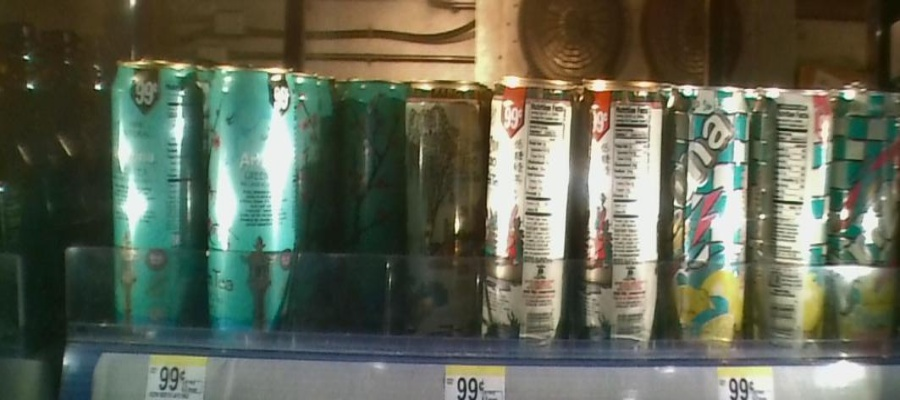bottle: (112, 37, 207, 331), (207, 50, 300, 337), (484, 58, 576, 337), (755, 66, 834, 380), (668, 70, 752, 364), (583, 59, 667, 352), (406, 64, 477, 343), (837, 70, 900, 382), (336, 60, 400, 318)
